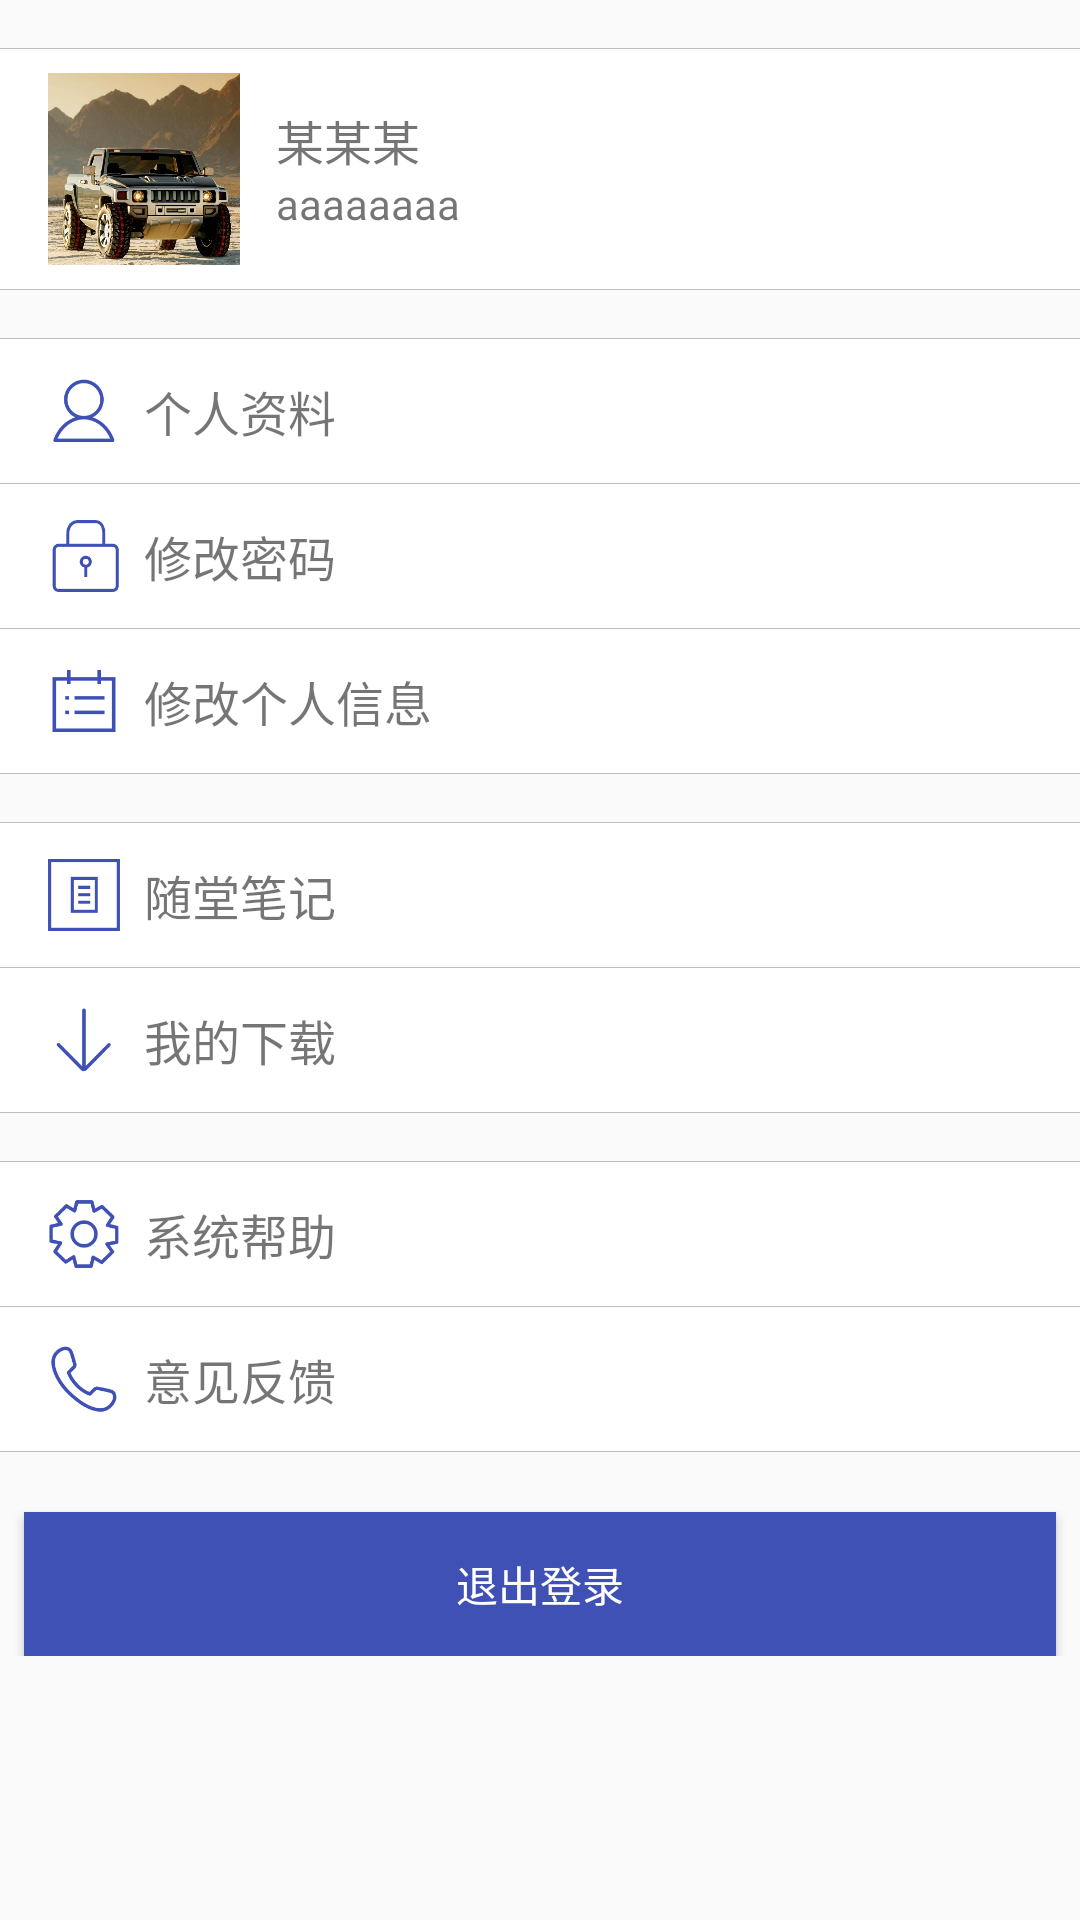

Icon click points for this 1080 x 1920 phone screenshot, format [x,y]:
book: [84,895]
download: [83,1039]
phone: [84,1379]
set: [84,1234]
